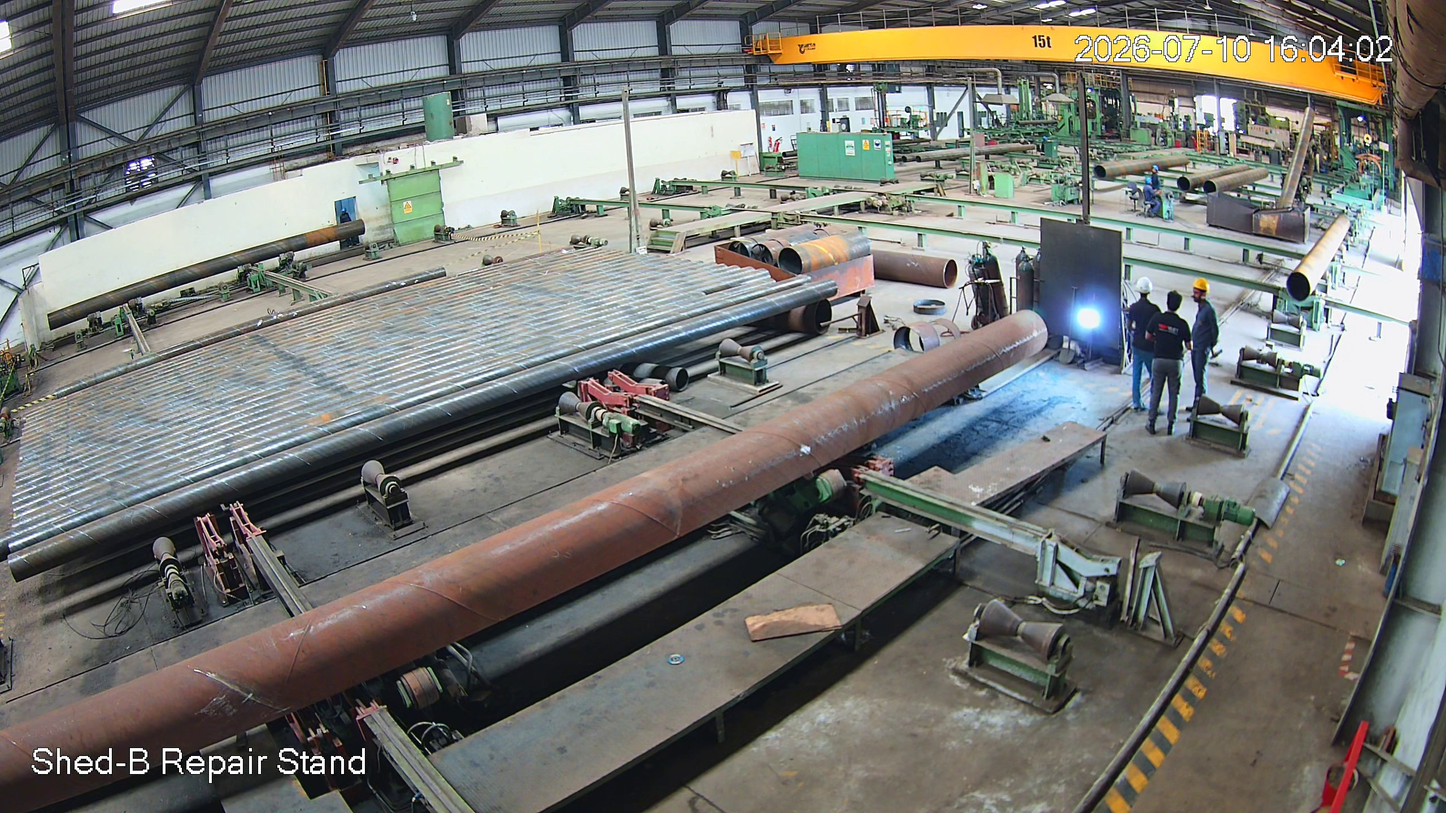Helmet: (1132, 274, 1161, 304), (1188, 275, 1211, 307)
Person: (1147, 289, 1183, 432), (1125, 279, 1161, 415), (1185, 276, 1217, 411)
